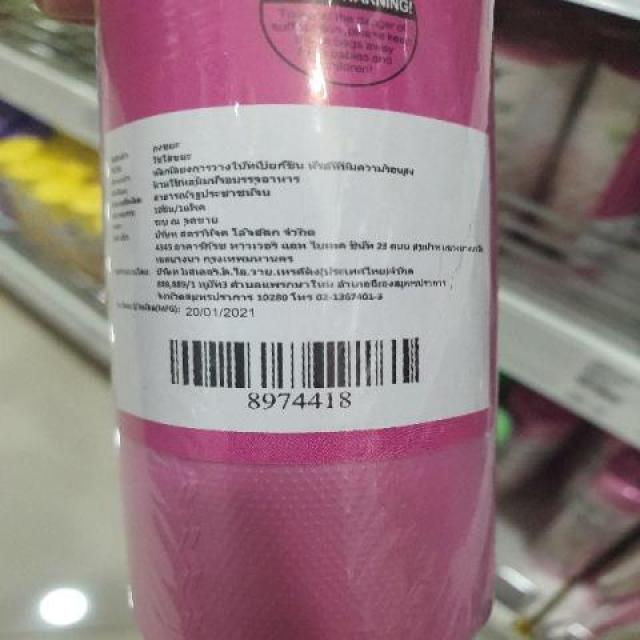Barcode: (157, 329, 435, 411)
